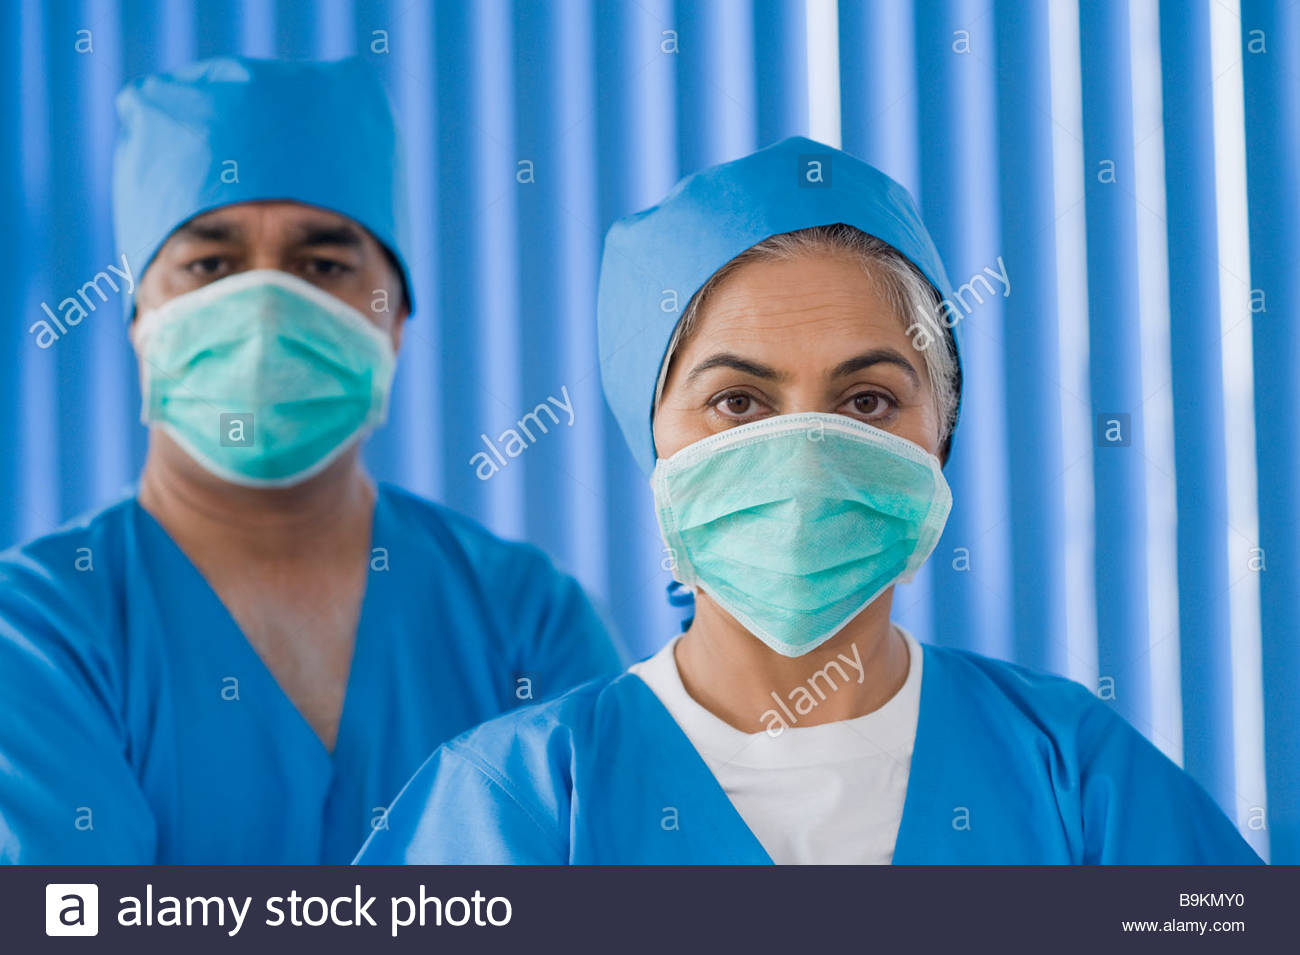mask: (654, 448, 955, 631), (129, 298, 412, 482)
